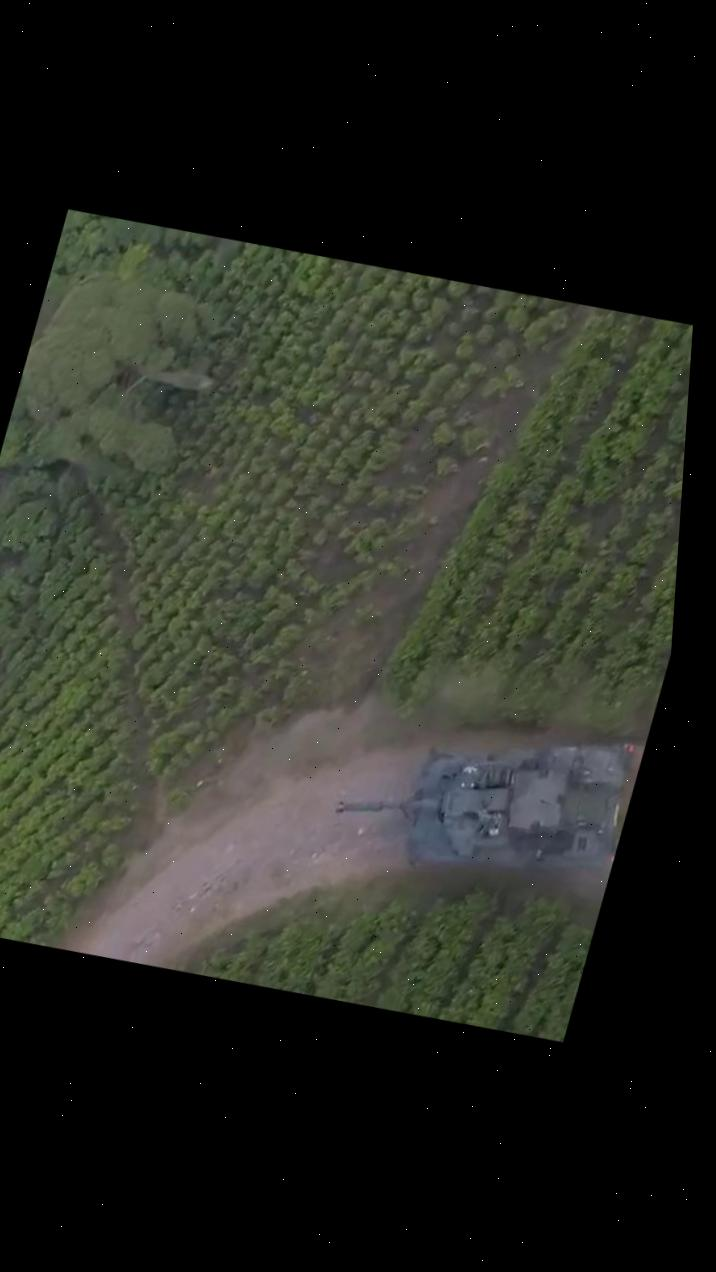tank: (315, 683, 650, 910)
